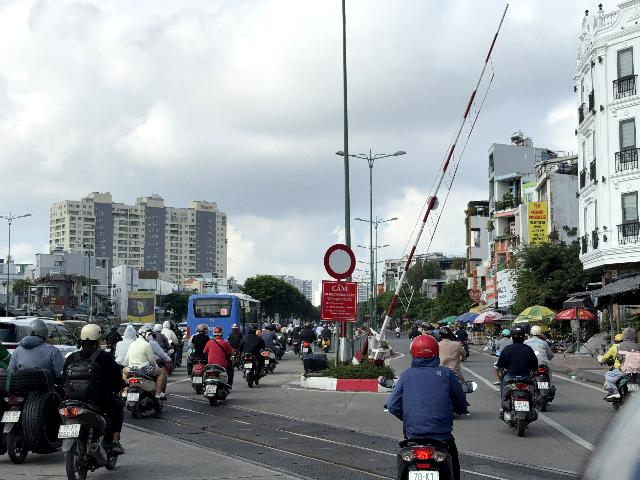duong-cam: (324, 244, 356, 280)
